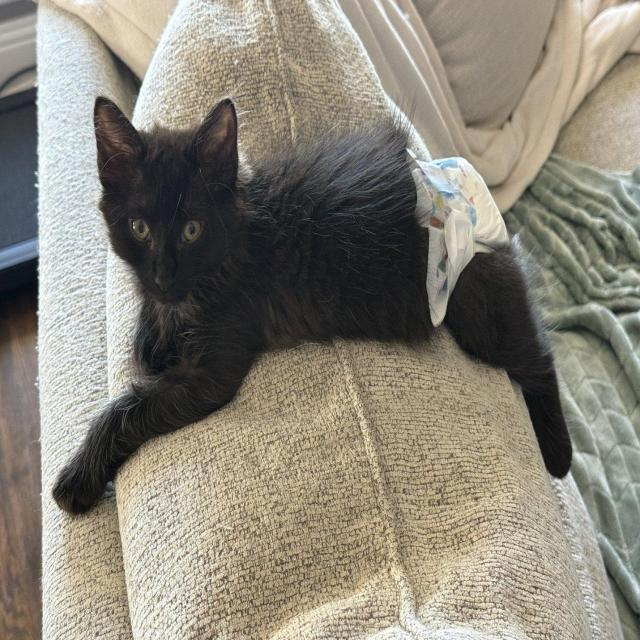manx_cat: (87, 82, 252, 322)
